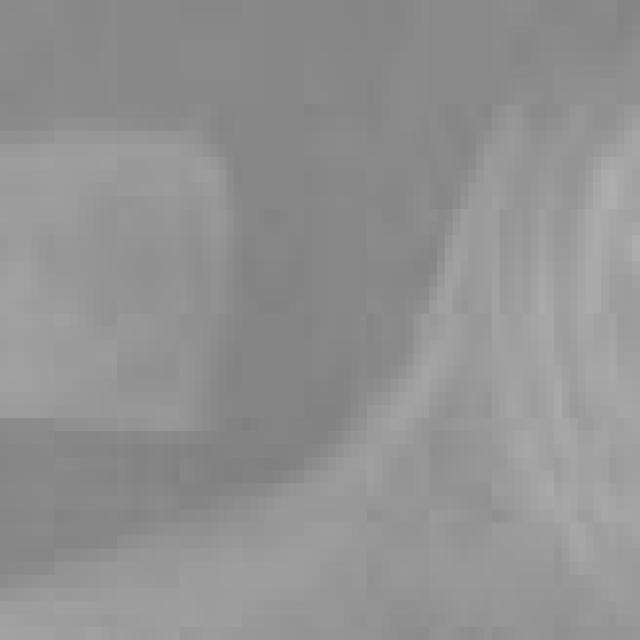fracture: (2, 7, 640, 640)
